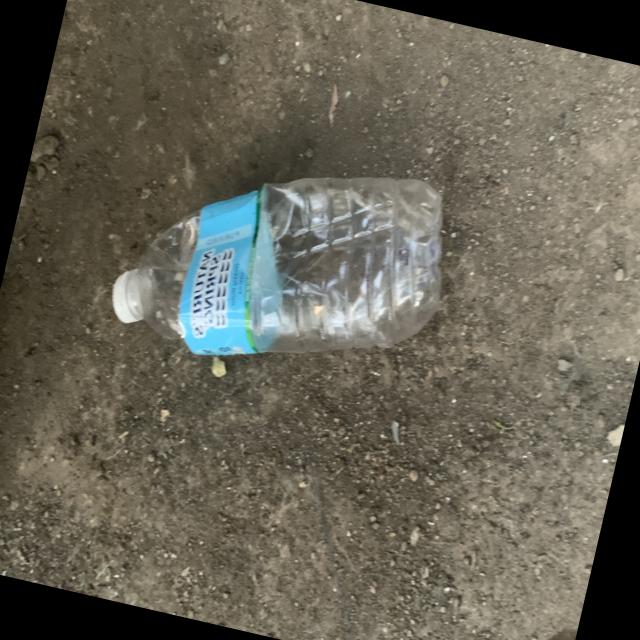Bottle: (111, 177, 441, 354)
